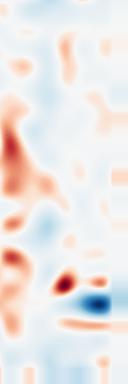filament: (0, 106, 42, 206)
